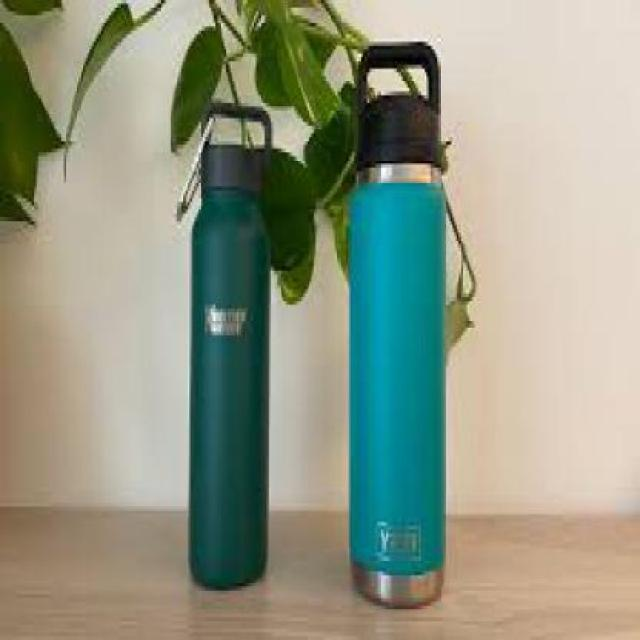Drinking: (342, 23, 452, 625), (179, 68, 292, 594)
